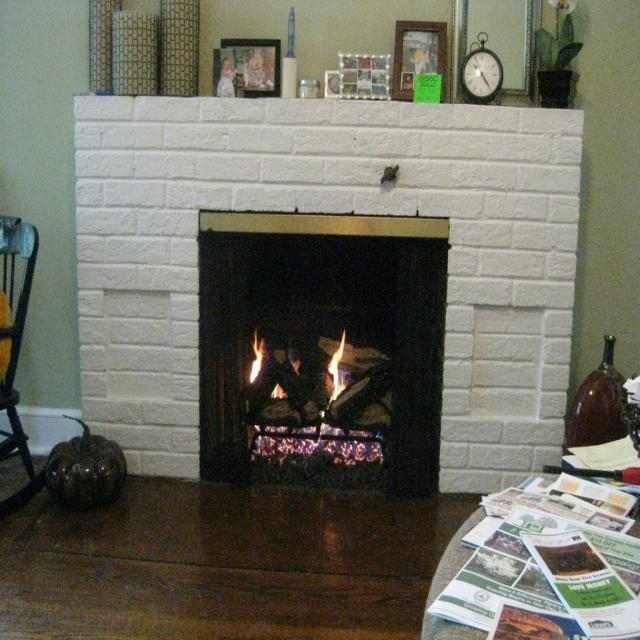Fire: (326, 338, 350, 397), (245, 338, 269, 397)
